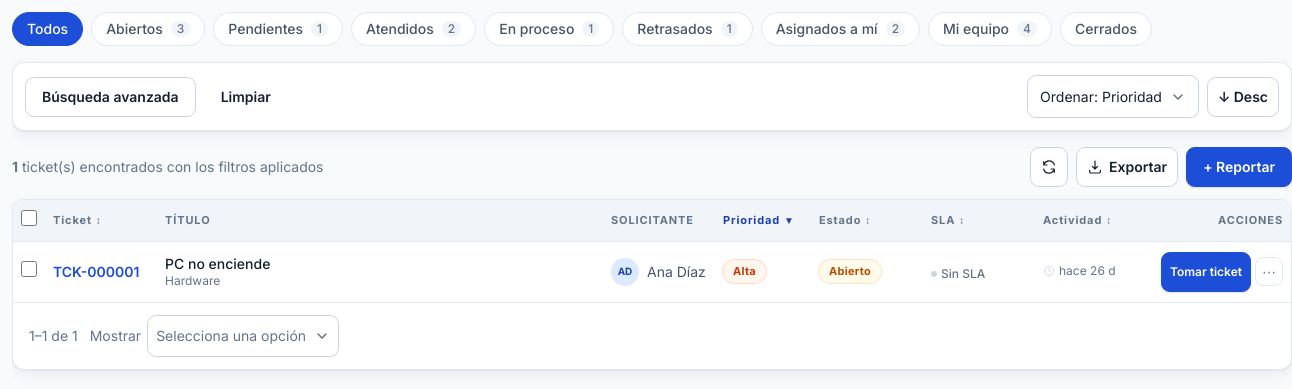
Test: Tickets › el orden depende de la URL: al limpiar vuelve al valor por defecto
expect the link "TCK-000001" is shown: met, box [53,262,139,281]
expect the dropdown titled "Ordenar por" reads "Ordenar: Prioridad": met, box [1027,75,1199,118]
Click the button "Limpiar" at (246, 96), box [204,76,288,116]
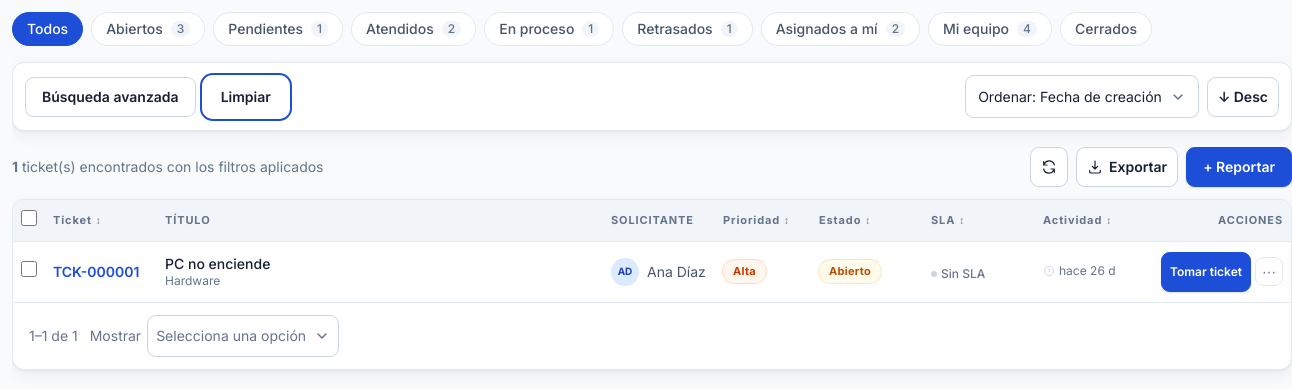
expect the dropdown labelled "Ordenar: Fecha de creación" is shown: met, box [965,75,1199,118]
